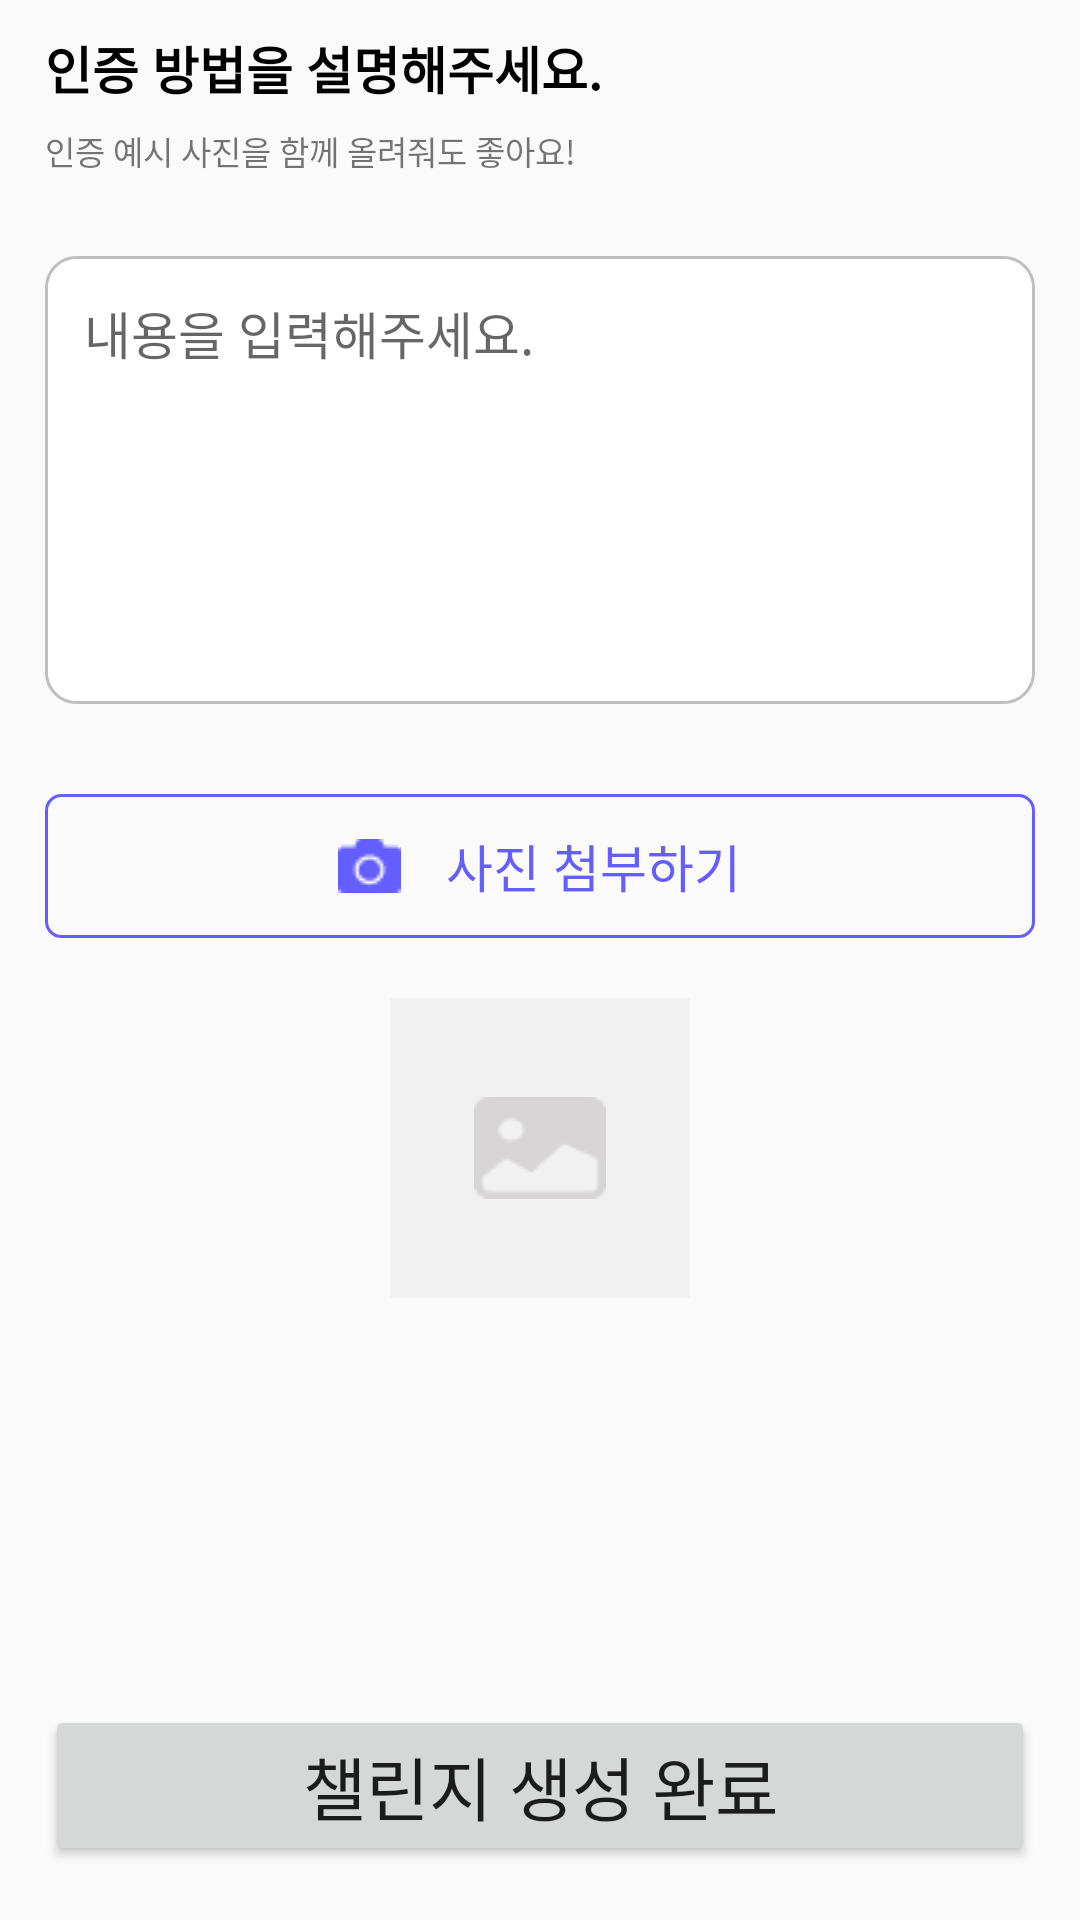

Screen size 1080px×1920px. Icon name, then its center in pixels as (x=x, y=y):
camera: (x=369, y=866)
